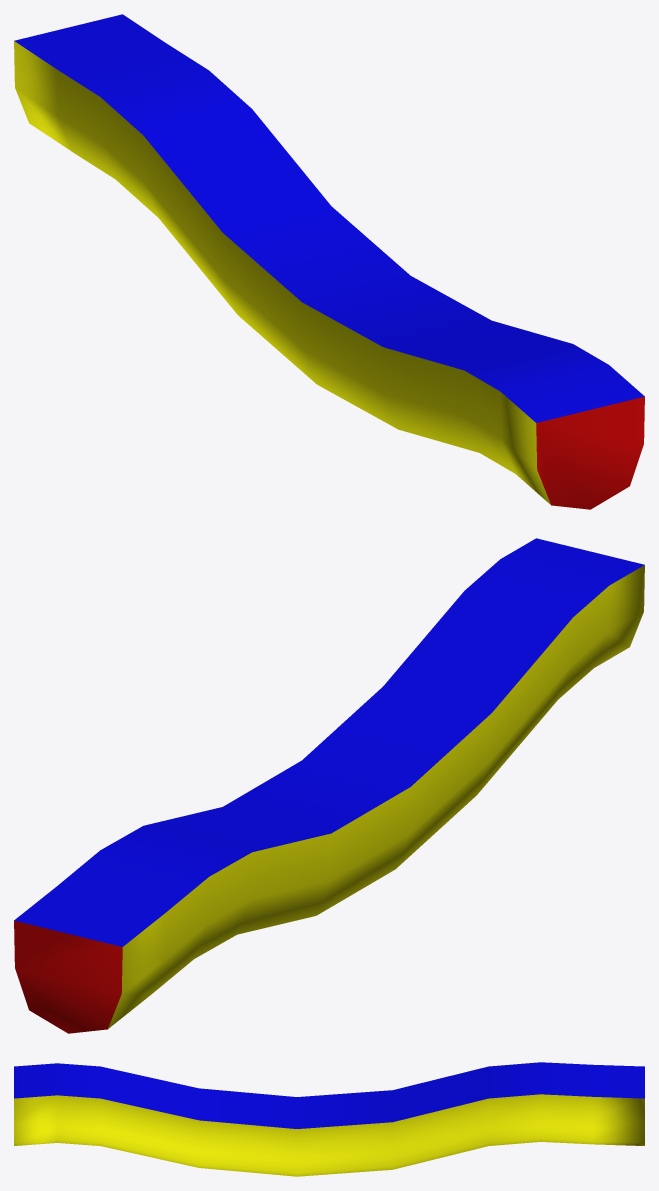
3 views of the same model, one above another, from view 1: azimuth 30°, elevation 25°; view 2: azimuth 150°, elevation 25°; view 3: azimuth 270°, elevation 25° (orthographic). The views are drawn at different scales.
Visible parts, largest first — view 1: polySurface132; view 2: polySurface132; view 3: polySurface132.
Boxes of the visible parts, x1,y1,x2,y2 form: polySurface132: (14,14,644,509); polySurface132: (14,538,644,1033); polySurface132: (14,1062,644,1176).
Size of the model in its own units: 23.58 by 32.65 by 196.
